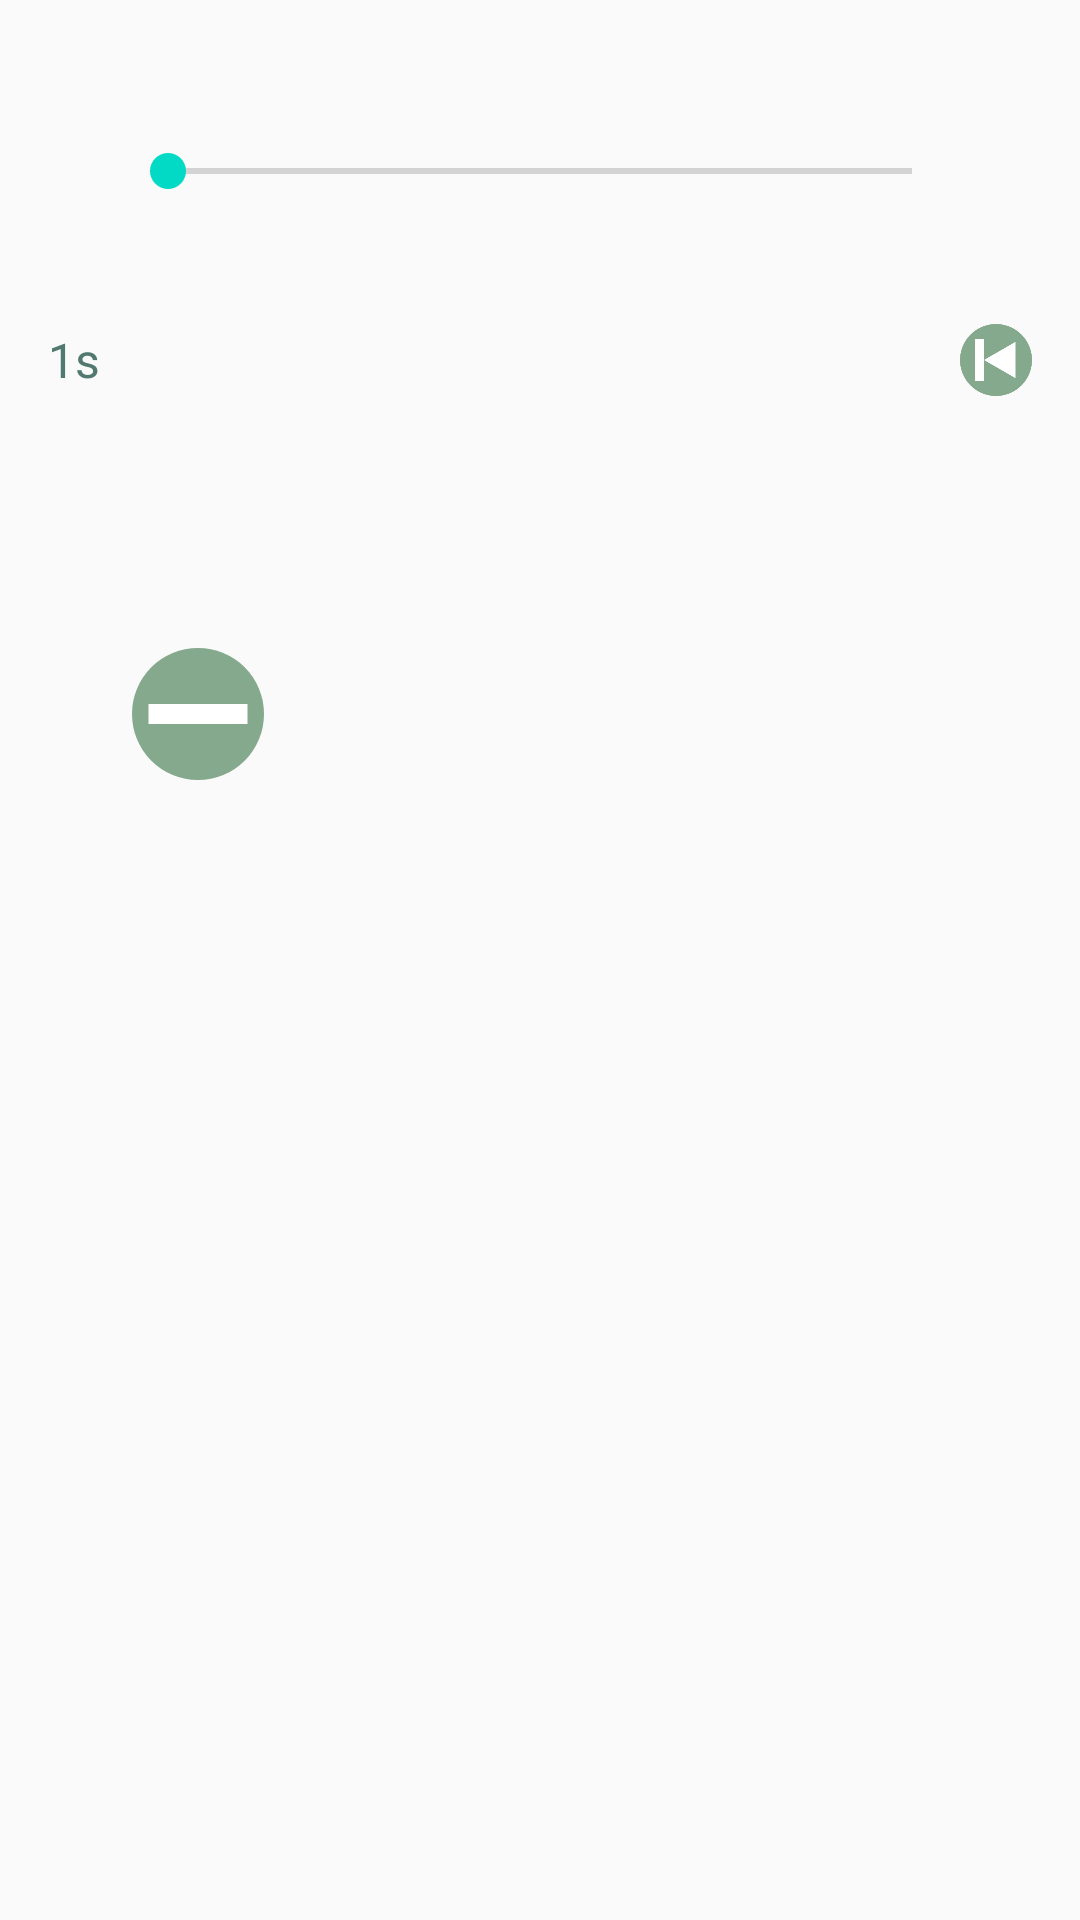

Icons on this 1080*1920 Android screen, each with its box as bbox(x1, y1, x2, y2):
decrease: bbox(132, 648, 264, 780)
previous: bbox(960, 324, 1032, 396)
